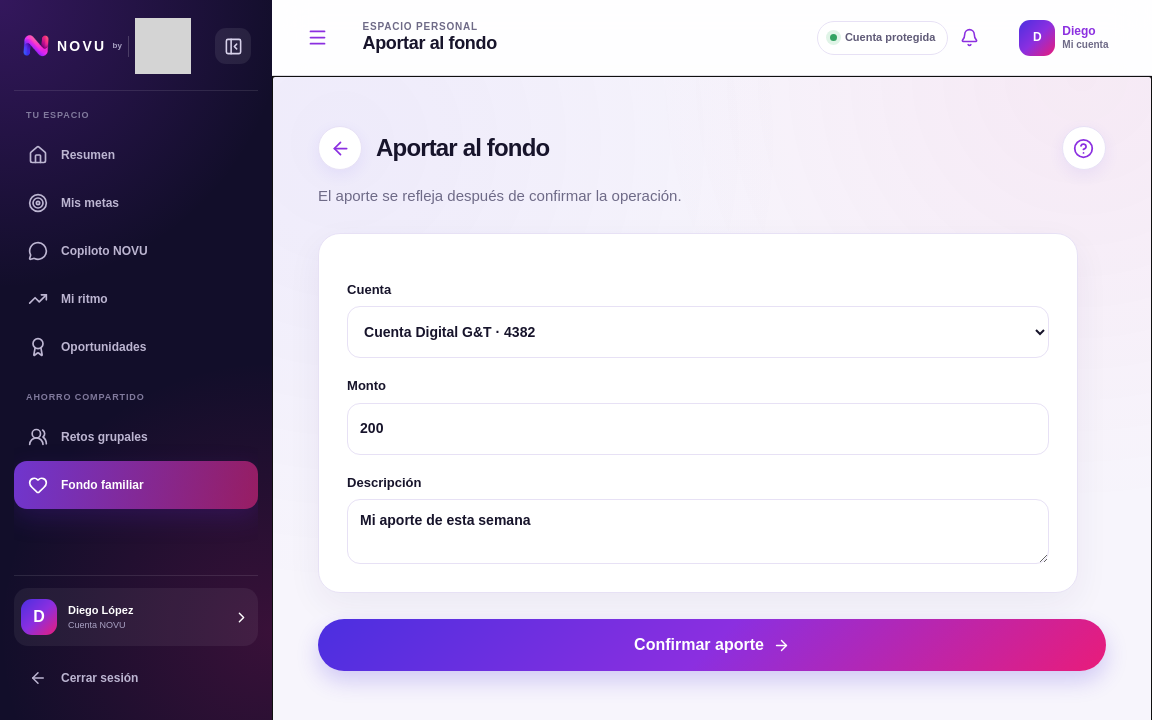
Test: aportes persistentes › registra un aporte al fondo y lo muestra en su historial
The image size is (1152, 720).
Replace the text in the number field labelled "Monto" with "432": (698, 429) [347,403,1049,455]
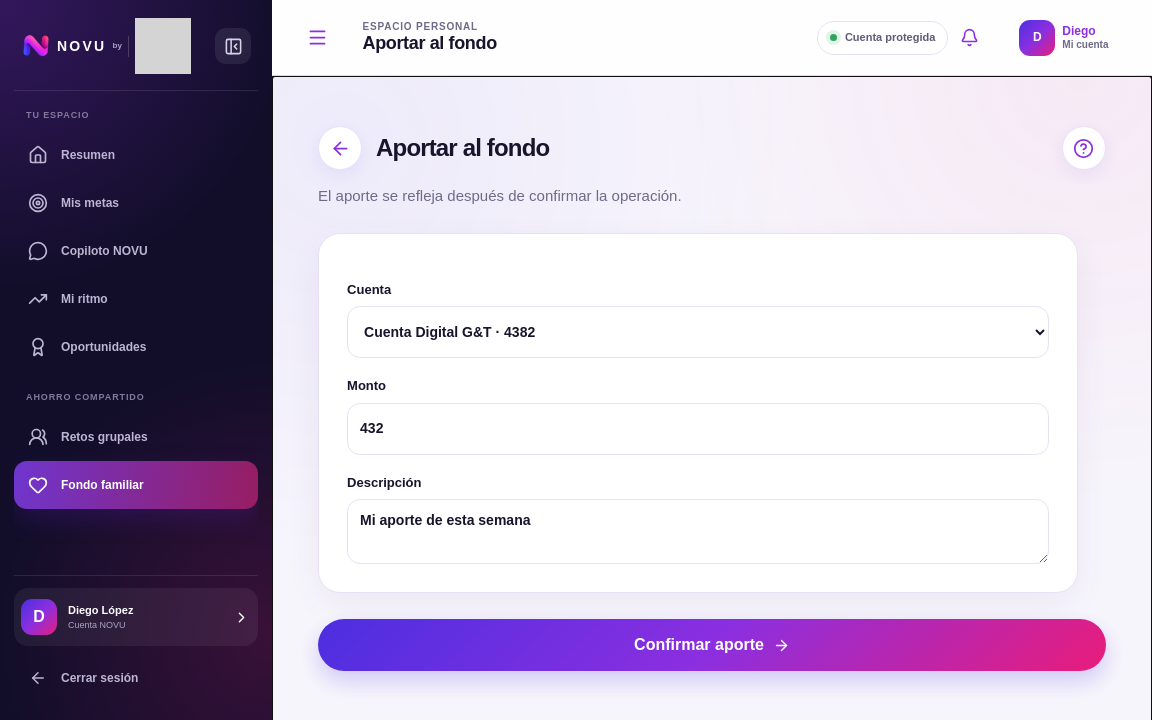
Replace the text in the text box labelled "Descripción" with "Aporte al fondo de prueba": (698, 532) [347,499,1049,564]
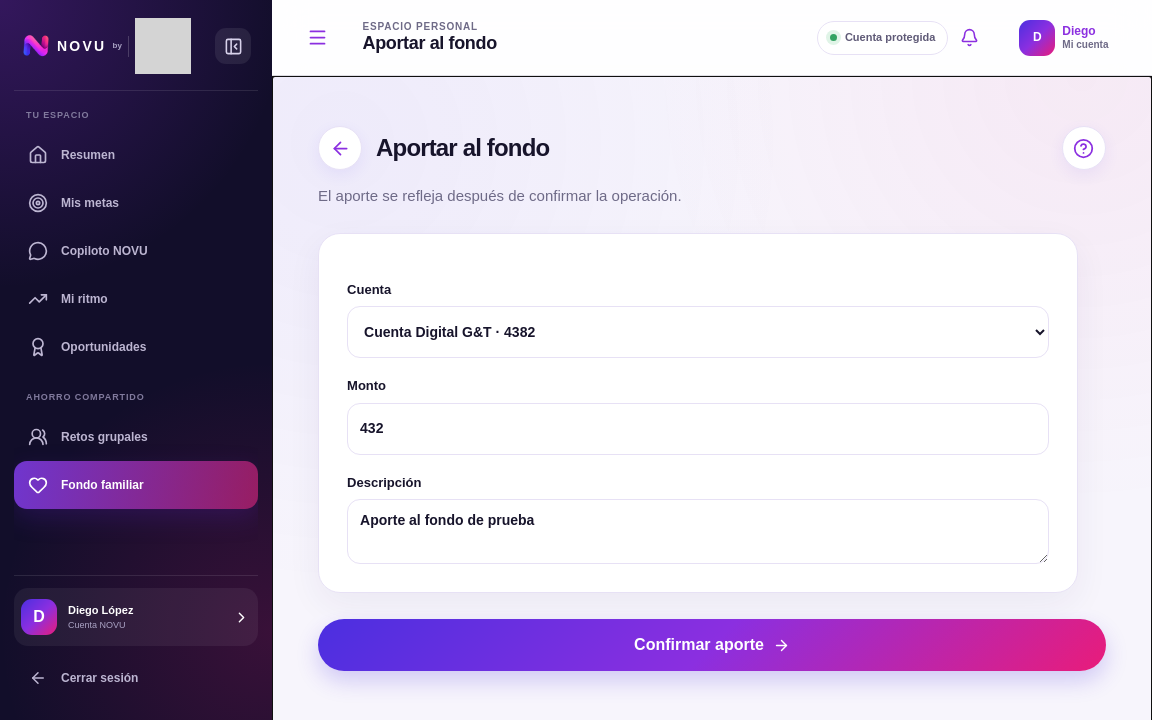
Click the button "Confirmar aporte": (712, 645) [318,619,1106,671]
(page scrolled)
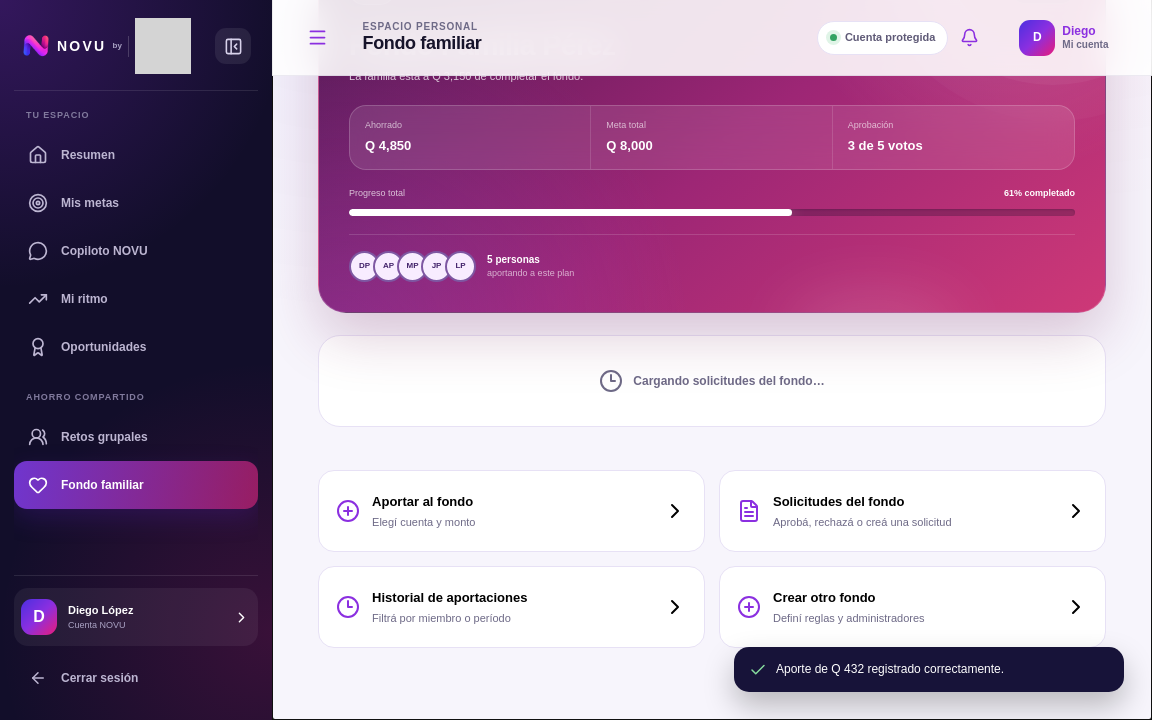
Click the button "Historial de aportaciones Filtrá por miembro o período": (512, 607) [318,566,705,648]
(page scrolled)
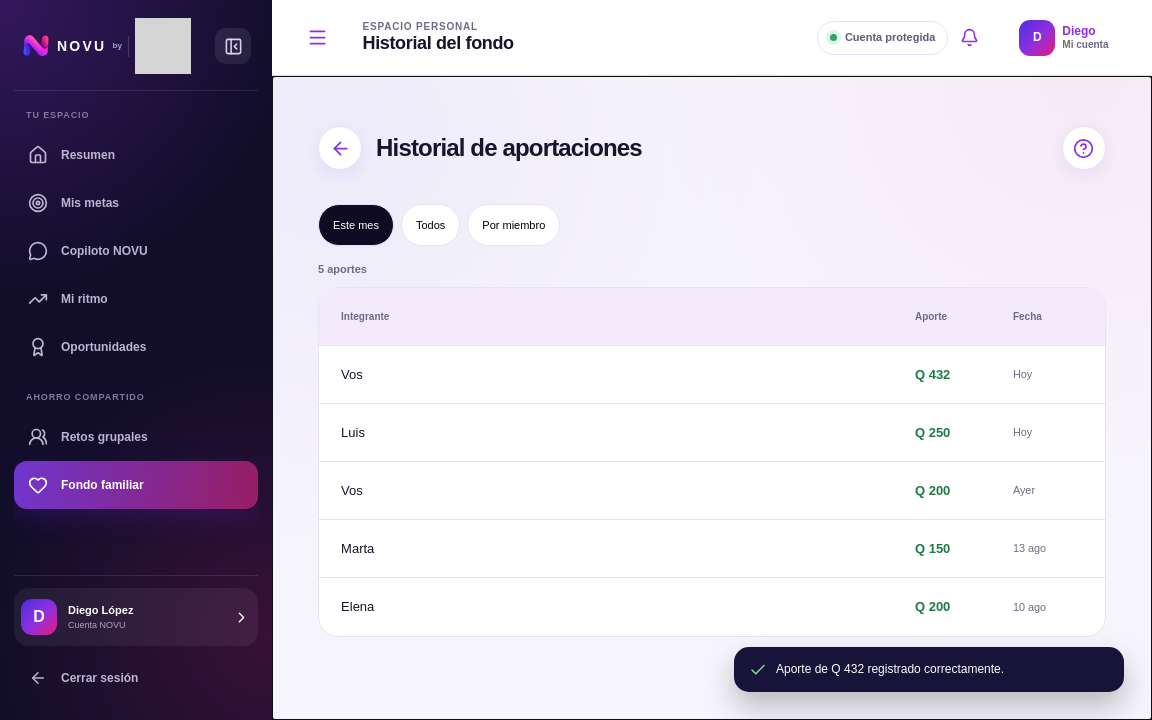
Expected: the text "Q 432" is shown, [915,366,950,382]
